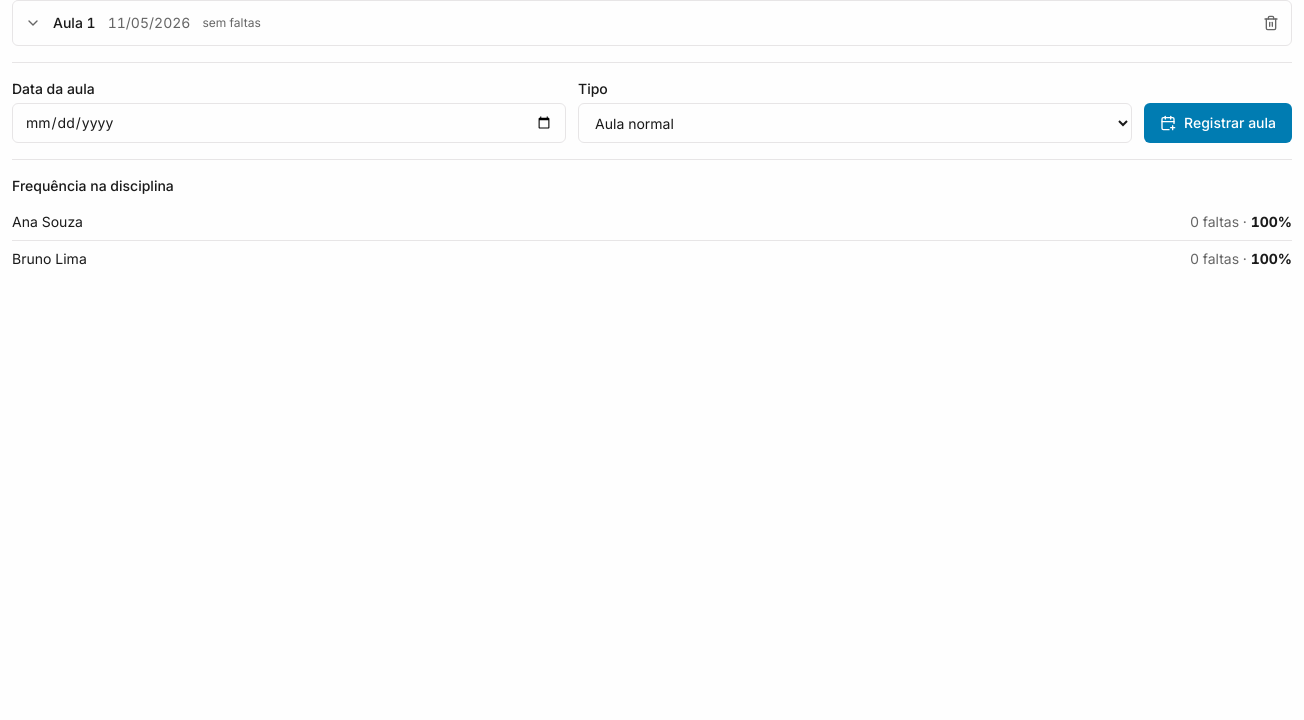
Scenario: GradeDeAulas › mostra o erro devolvido pela ação
Click the button "Aula 1 11/05/2026 sem faltas" at (70,22), box [25,13,1251,33]
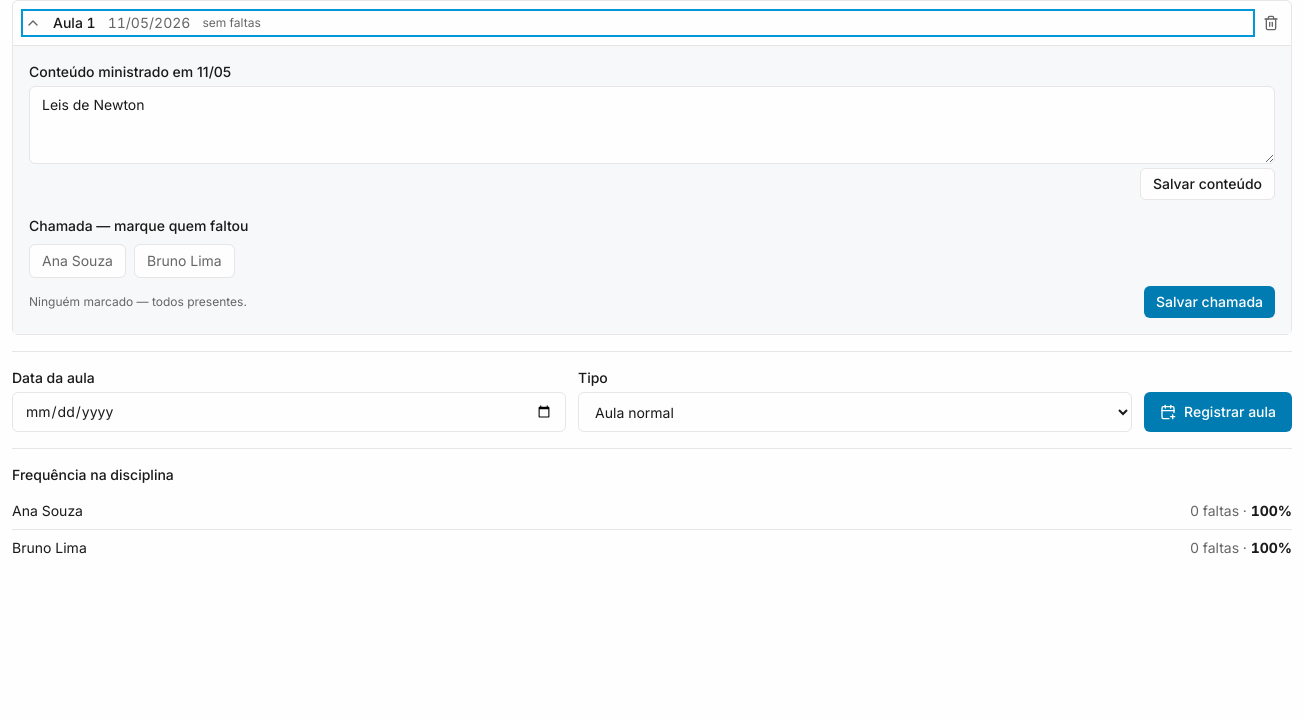
Click the button "Salvar conteúdo" at (1208,184), box [1140,168,1275,200]
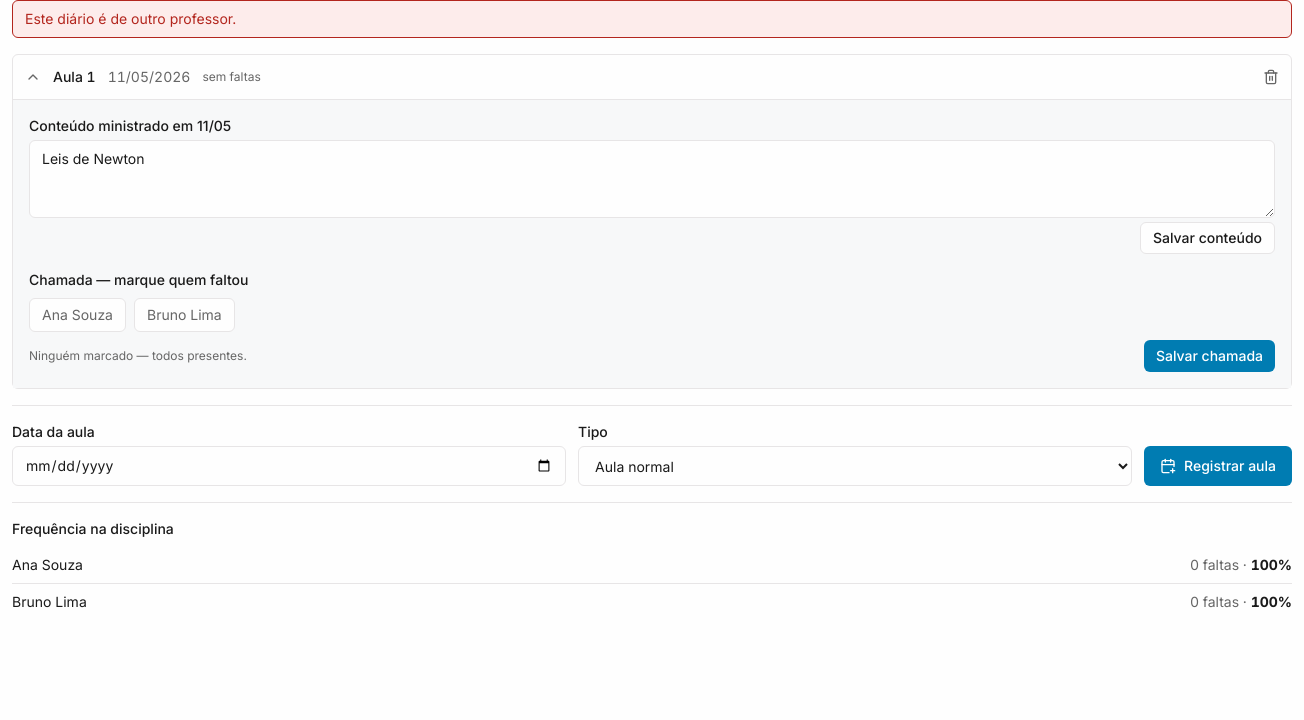
Check: the message reads "Este diário é de outro professor.", box [25,10,236,27]
